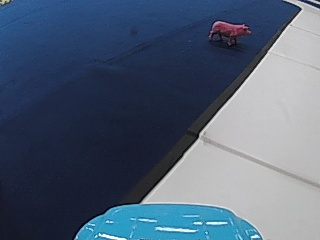pig: (207, 17, 251, 46)
